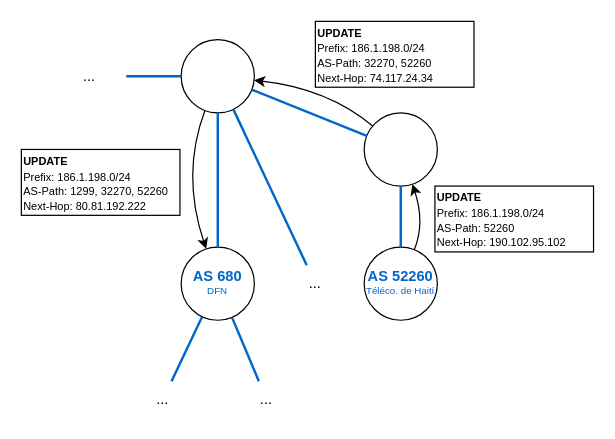
Some shapes in this 615 by 439 pixel diagram are drawn without their labels. Here are the shapes that lost their labels. From the top down, the box of each, then its label:
(180, 38, 254, 113): AS 1299 Arelion
(363, 112, 437, 186): AS 32270 LD Telcom.
